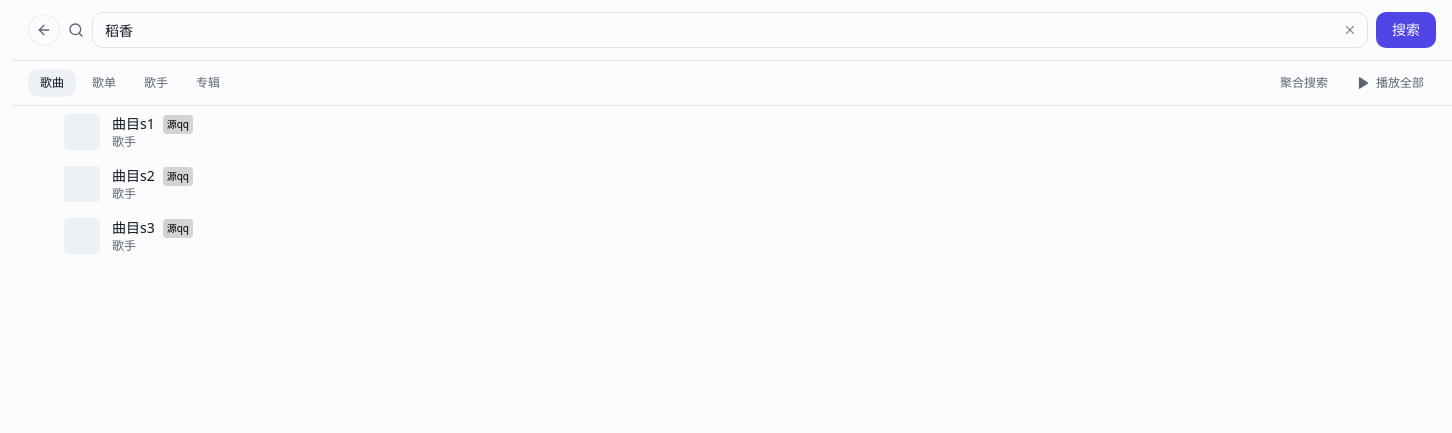
Scenario: 搜索页页签切换（URL 驱动的真实路由） › 翻到第 2 页后再切页签：新页签必须从第 1 页重拉，不残留旧页签的旧页
Click the button "歌单".
click(104, 83)  # box [80,69,128,97]
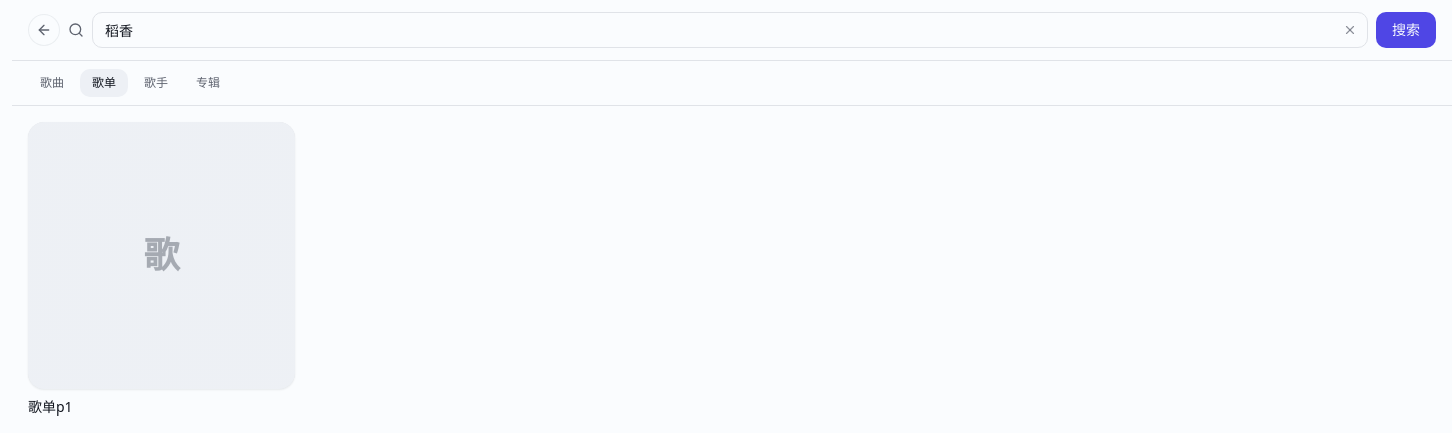
Now the text "歌单p1" is shown, box [28,397,73,416]
Now the text "曲目s1" is gone
Now the text "曲目s3" is gone
